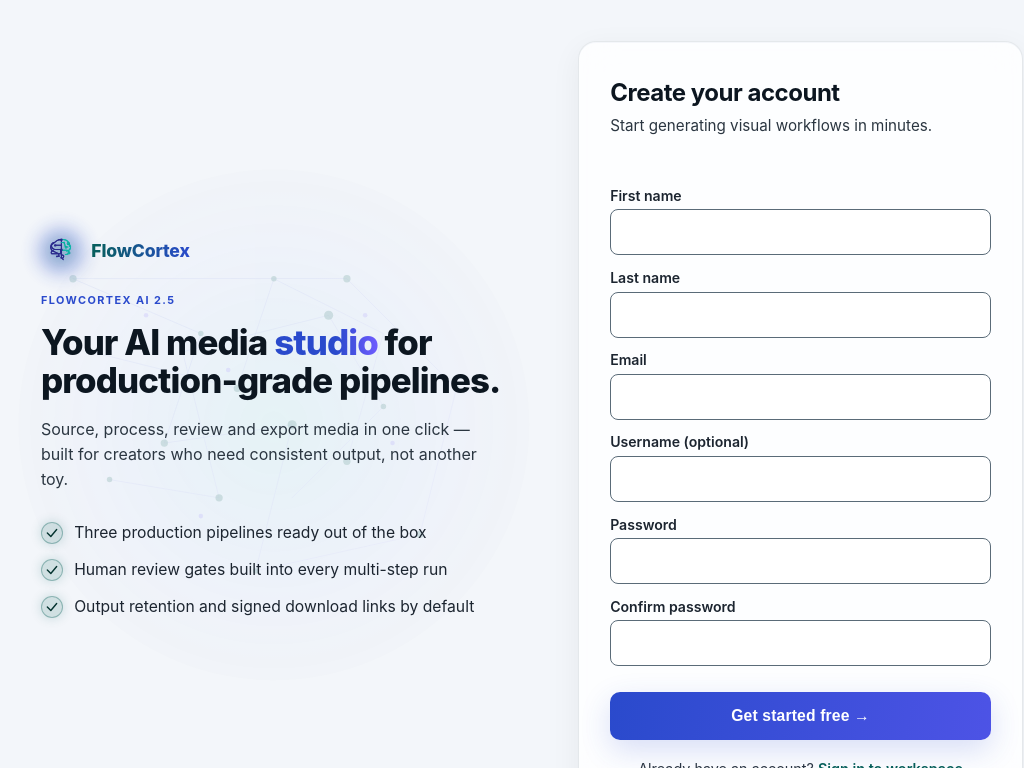
RegisterPage › refuses the username An_1 at its field without sending a request
Type "An" into the field labelled "First name" at (801, 232), box [610,210,991,256]
Type "Tran" into the field labelled "Last name" at (801, 315), box [610,292,991,338]
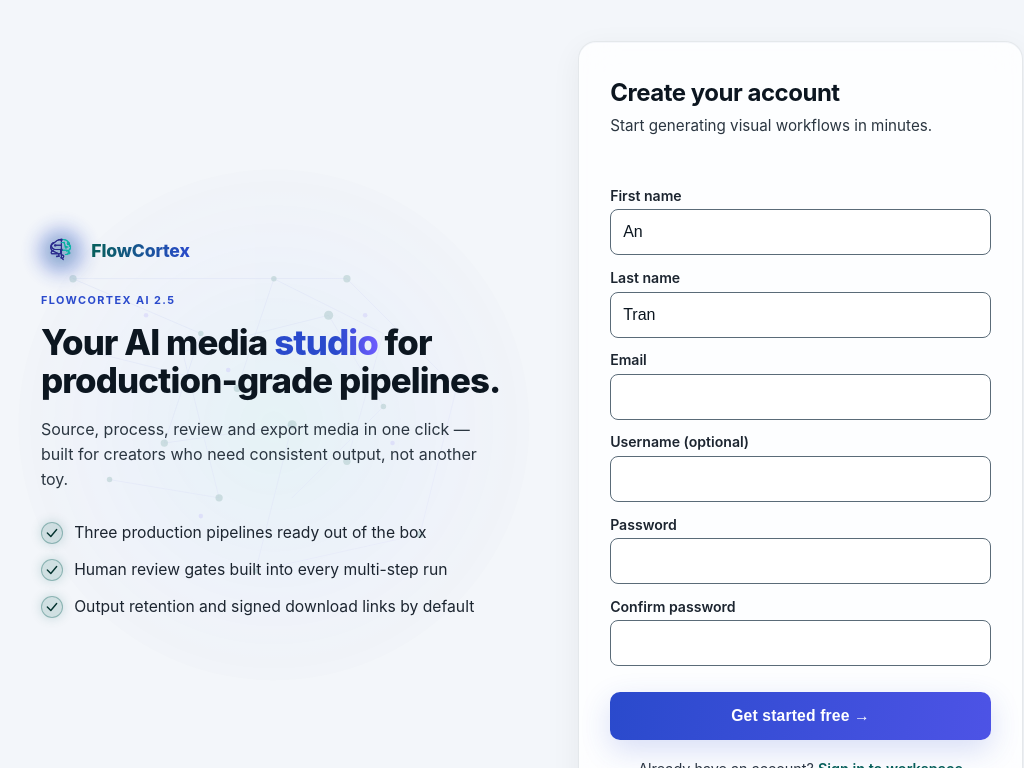
Type "an@example.com" into the field labelled "Email" at (801, 397), box [610,374,991,420]
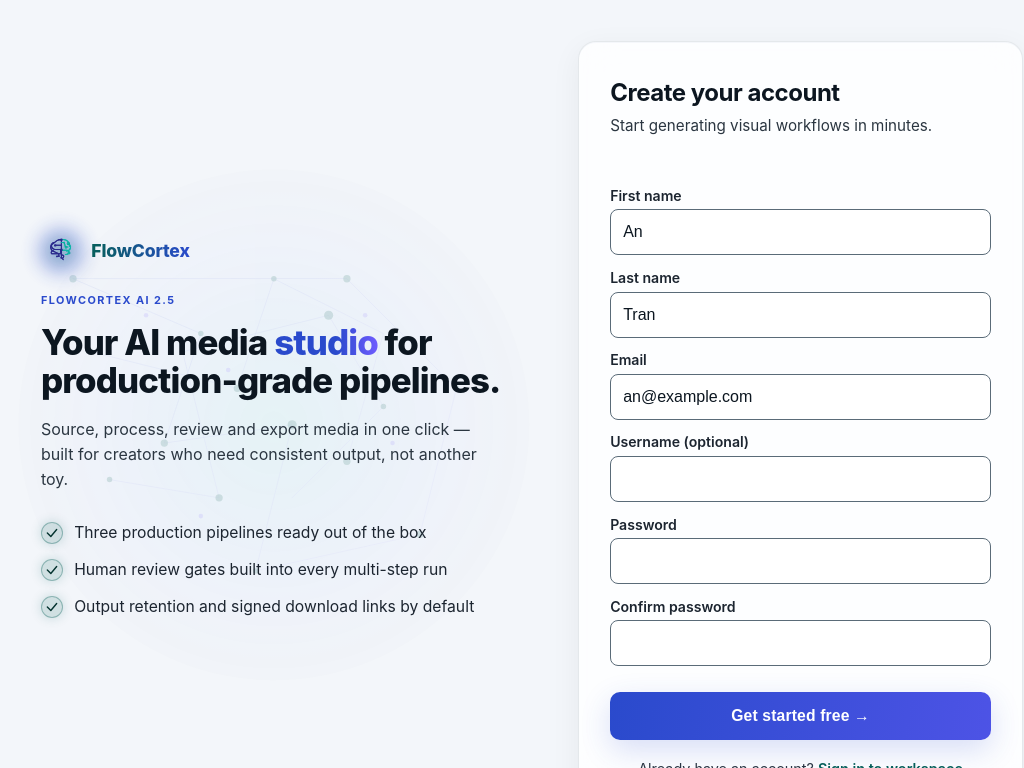
Type "An_1" into the field labelled "Username (optional)" at (801, 479), box [610,456,991,502]
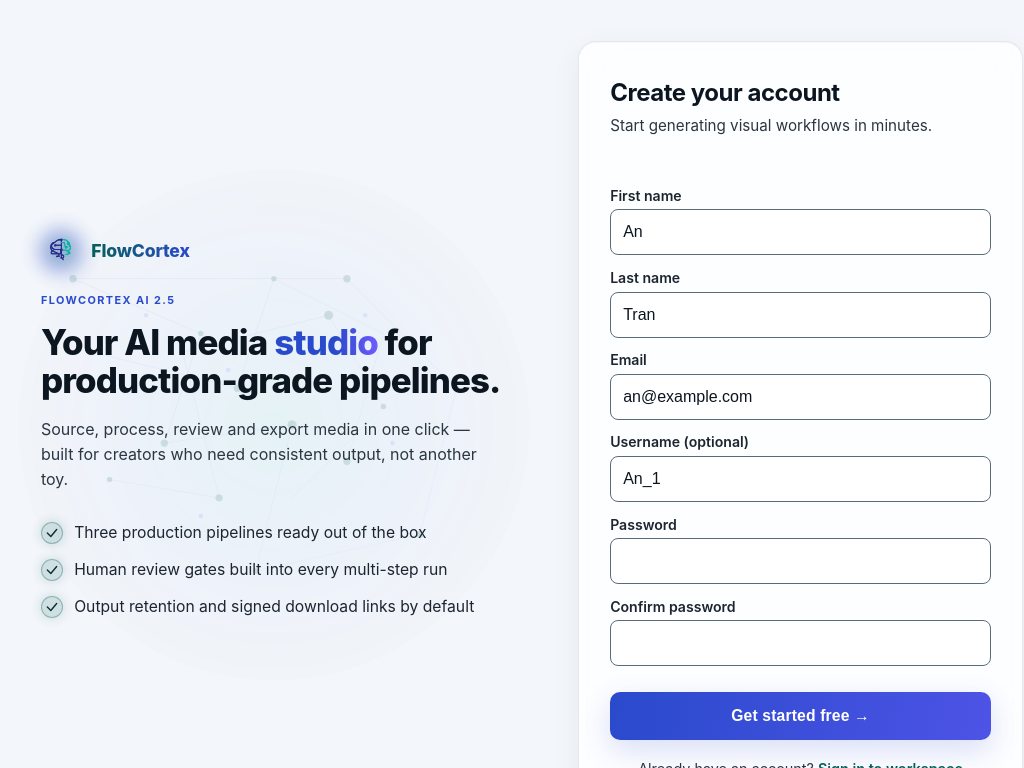
Type "Secret123" into the password field labelled "Password" at (801, 561), box [610,538,991,584]
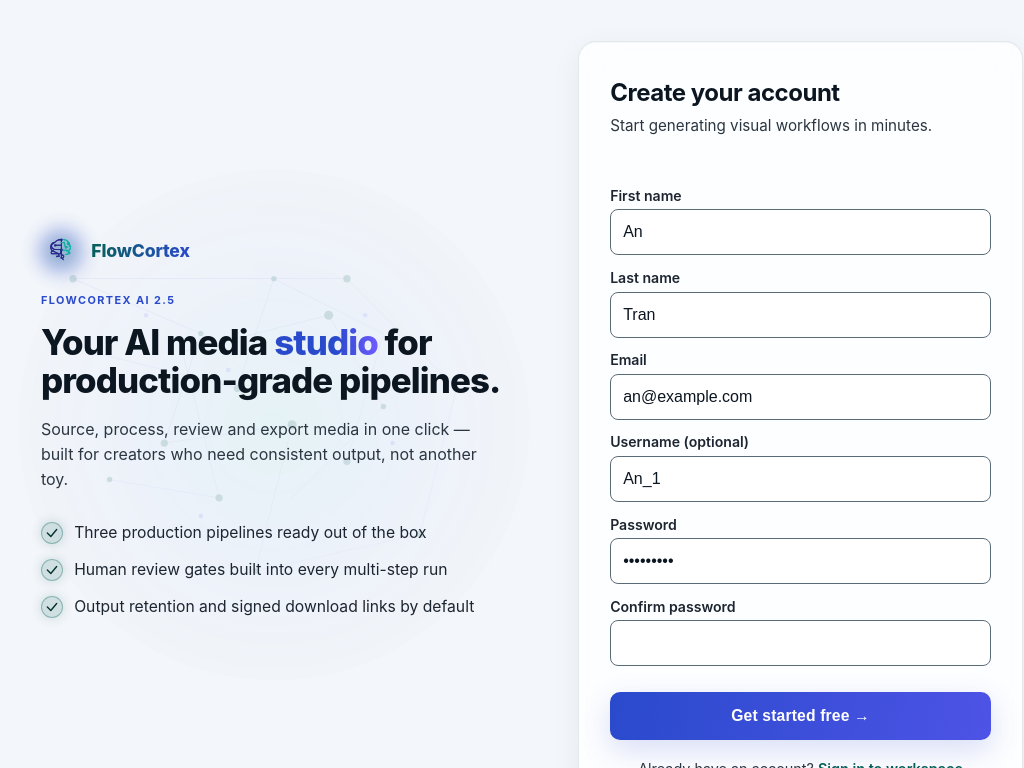
Type "Secret123" into the password field labelled "Confirm password" at (801, 643), box [610,620,991,666]
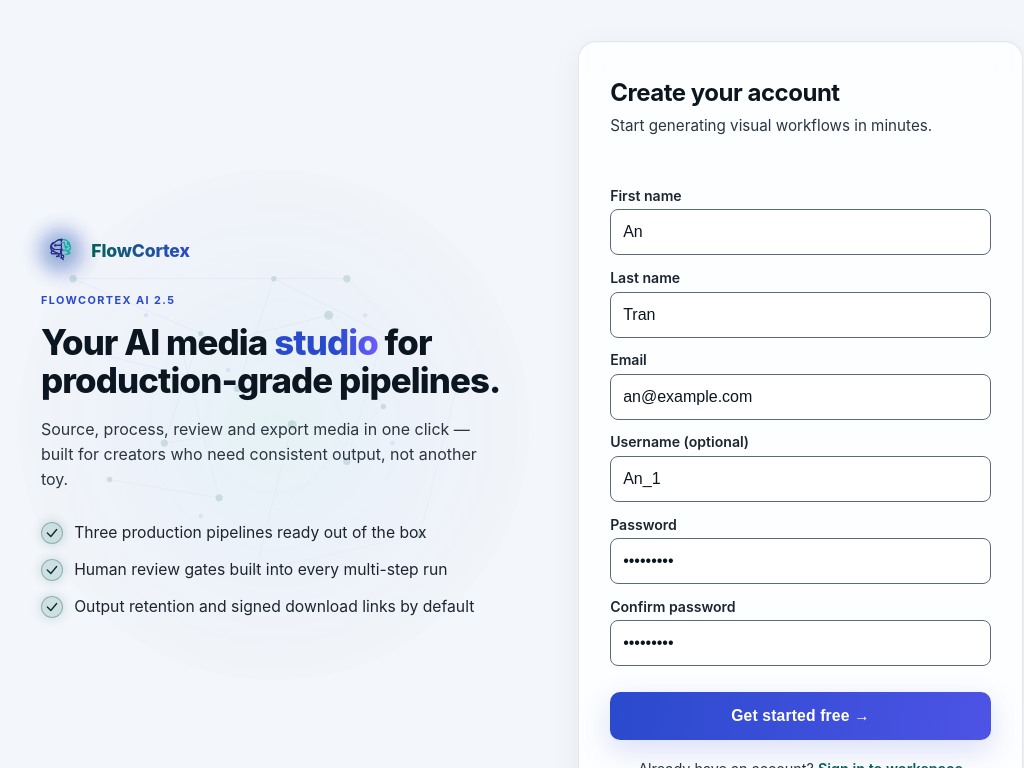
Click the button "Get started free →" at (801, 716), box [610,692,991,740]
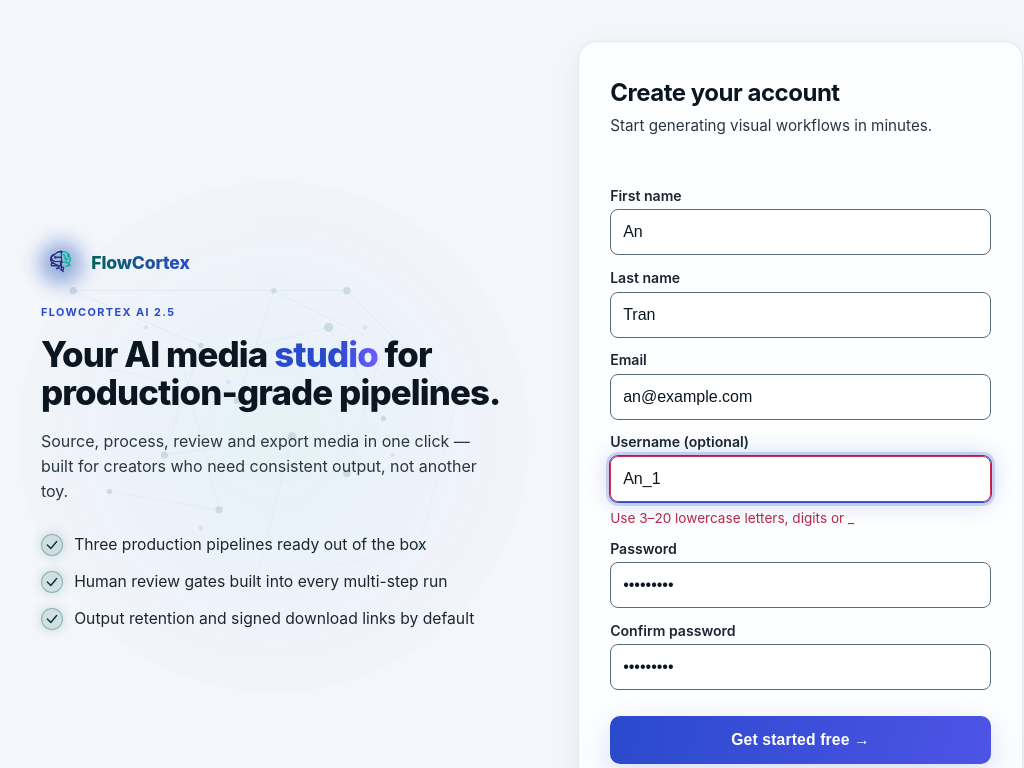
Check: the text "Use 3–20 lowercase letters, digits or _" is shown, box [610,510,854,526]
